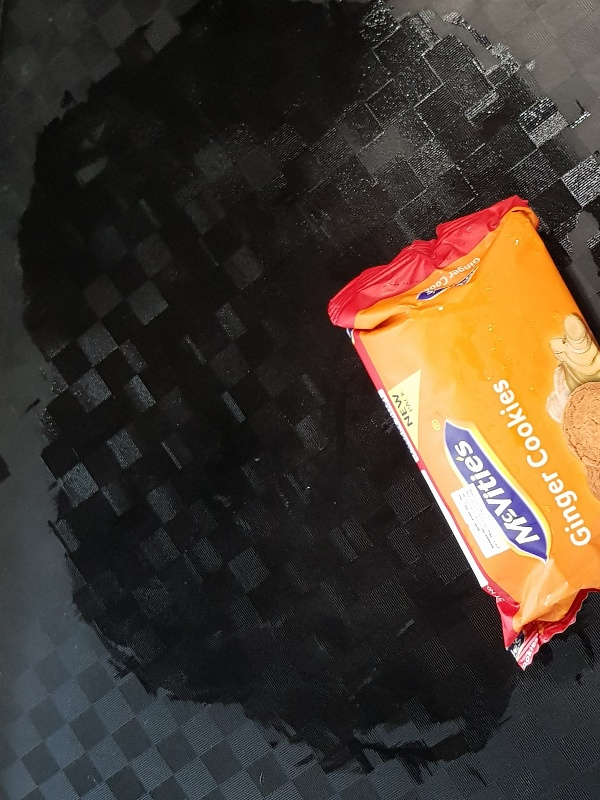McVitie's Ginger Cookies: (326, 193, 600, 671)
